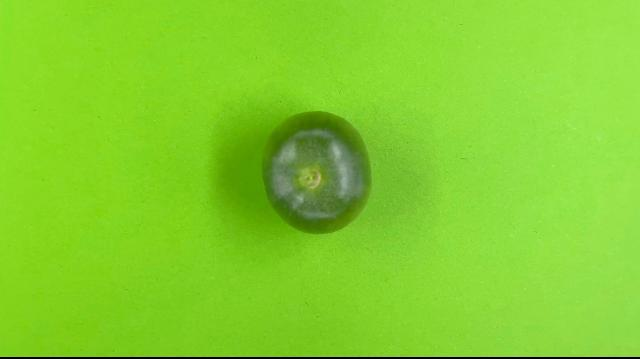Fruit Maturation: (257, 108, 375, 236)
